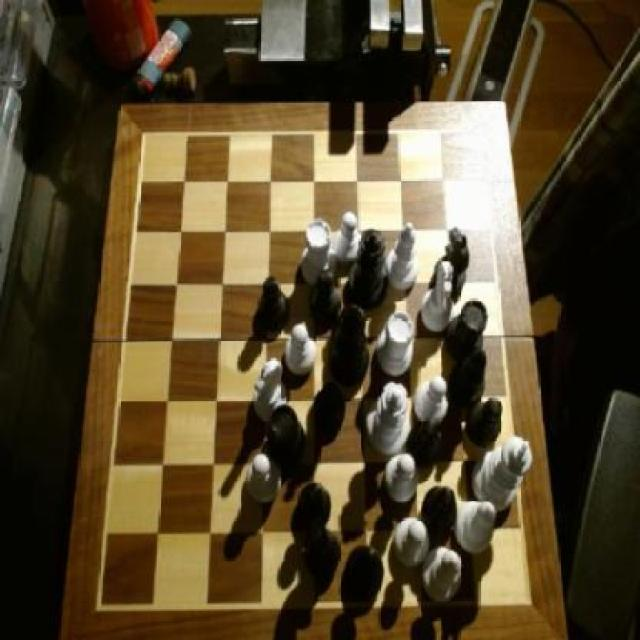bishop: (344, 545, 384, 602), (449, 351, 491, 403)
black-bishop: (328, 305, 370, 386)
black-king: (434, 226, 471, 295), (308, 518, 343, 578)
black-knight: (466, 395, 505, 447), (256, 276, 292, 330), (312, 378, 346, 432), (423, 486, 458, 536), (408, 418, 443, 467), (309, 271, 341, 321), (297, 482, 332, 526)
black-pawn: (349, 228, 389, 307)
black-queen: (444, 300, 488, 361), (268, 408, 306, 466)
black-rook: (423, 546, 463, 607), (384, 220, 418, 289), (457, 498, 497, 554)
white-bishop: (472, 436, 532, 508)
white-king: (422, 263, 453, 335), (254, 358, 289, 421)
white-knight: (392, 515, 427, 567), (246, 454, 281, 504), (416, 376, 450, 422), (388, 454, 419, 503), (285, 324, 316, 372), (334, 211, 360, 267)
white-pawn: (370, 381, 412, 454)
white-queen: (377, 311, 415, 377), (300, 217, 335, 281)
